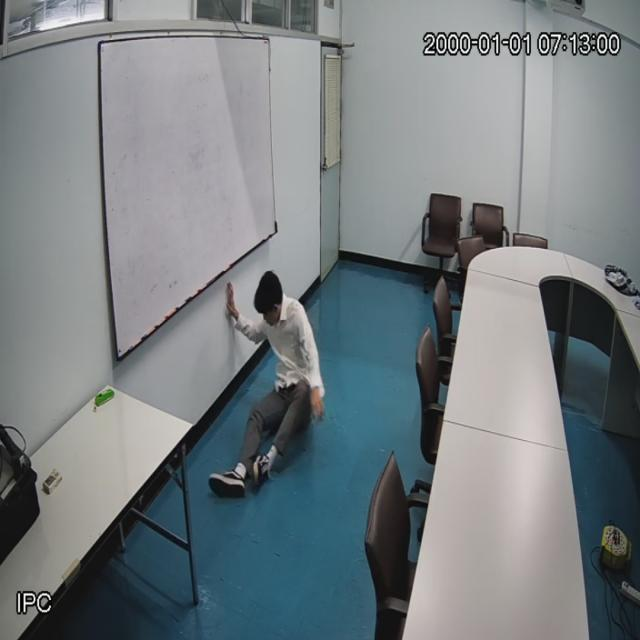fall: (213, 271, 327, 503)
